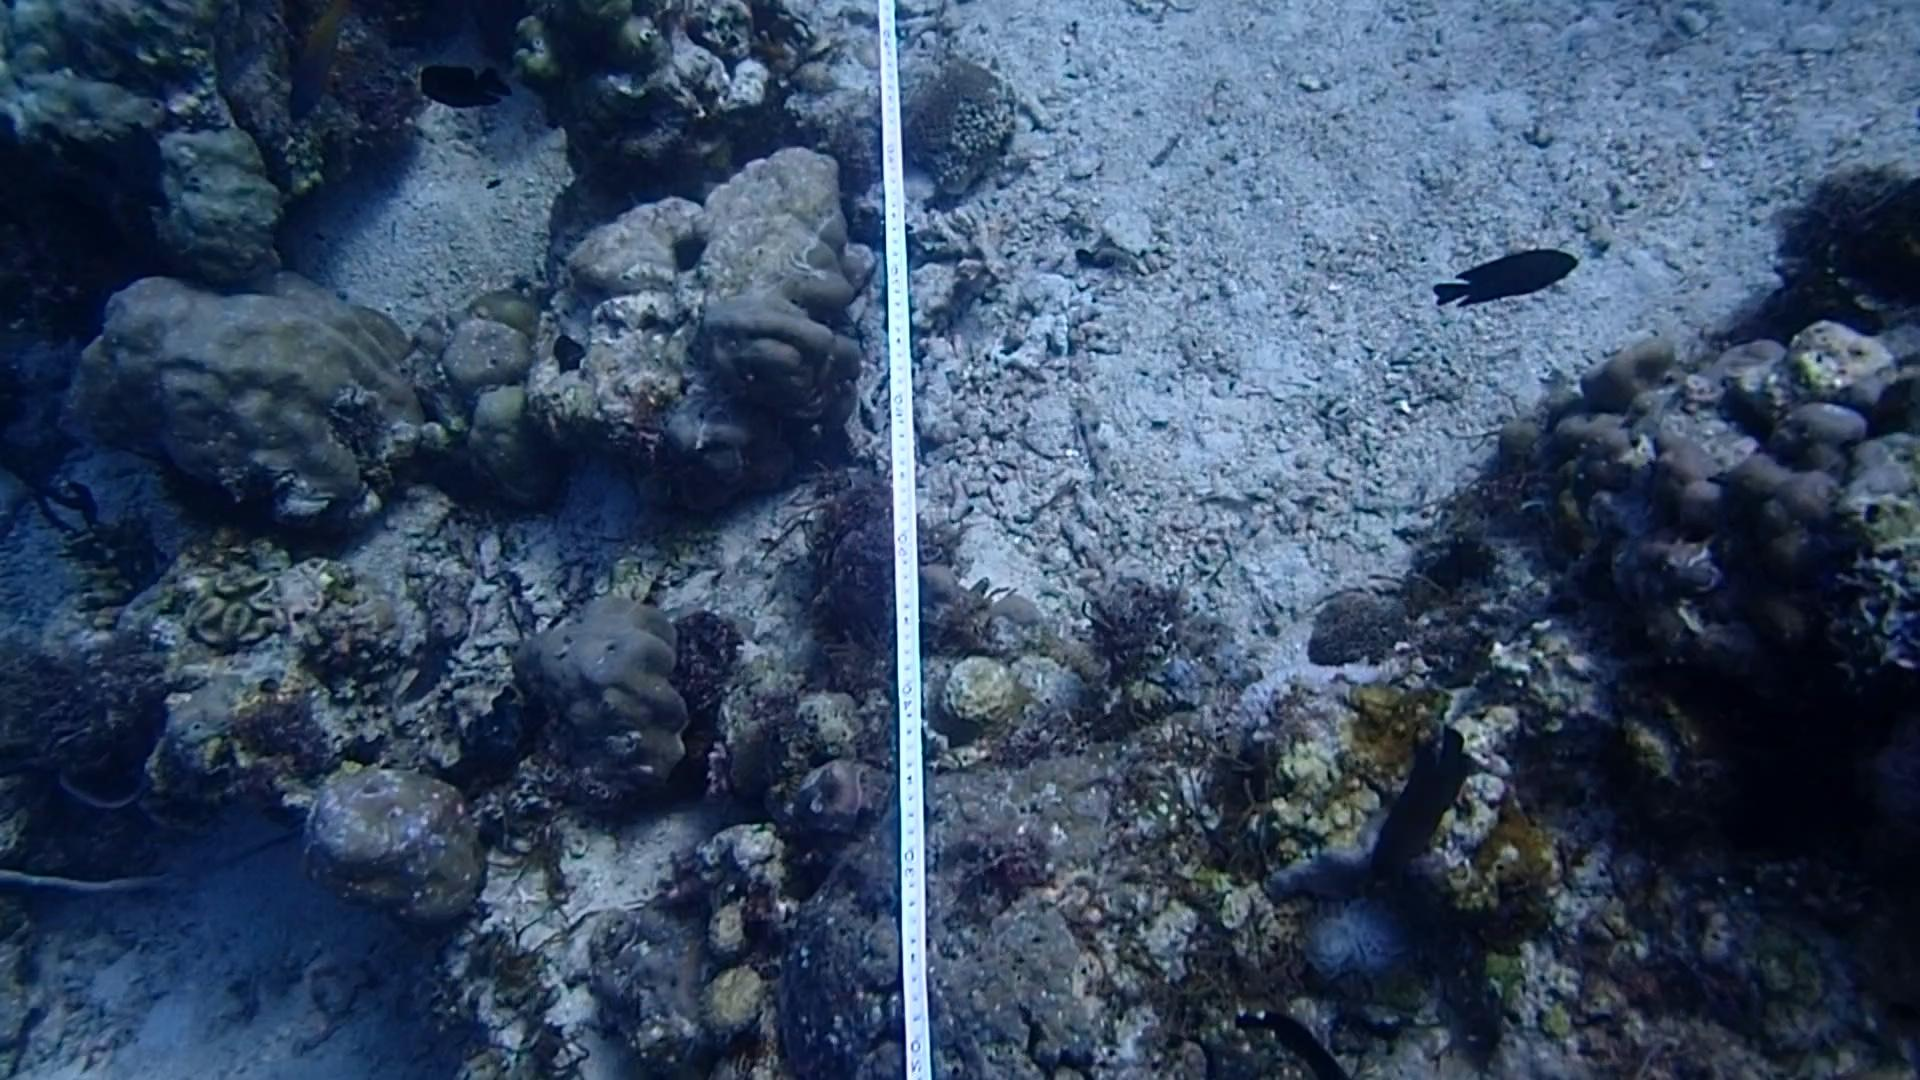Dark Fish: (1373, 721, 1487, 882), (1433, 225, 1590, 316), (410, 45, 510, 123)
